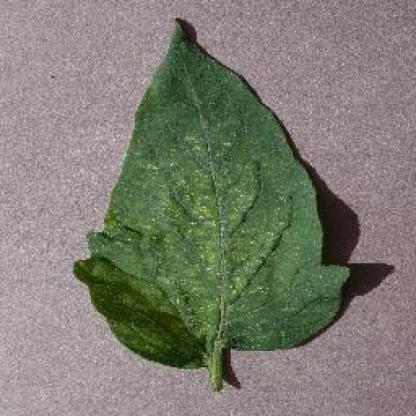Tomato_Spider_Mites: (76, 21, 348, 367)
